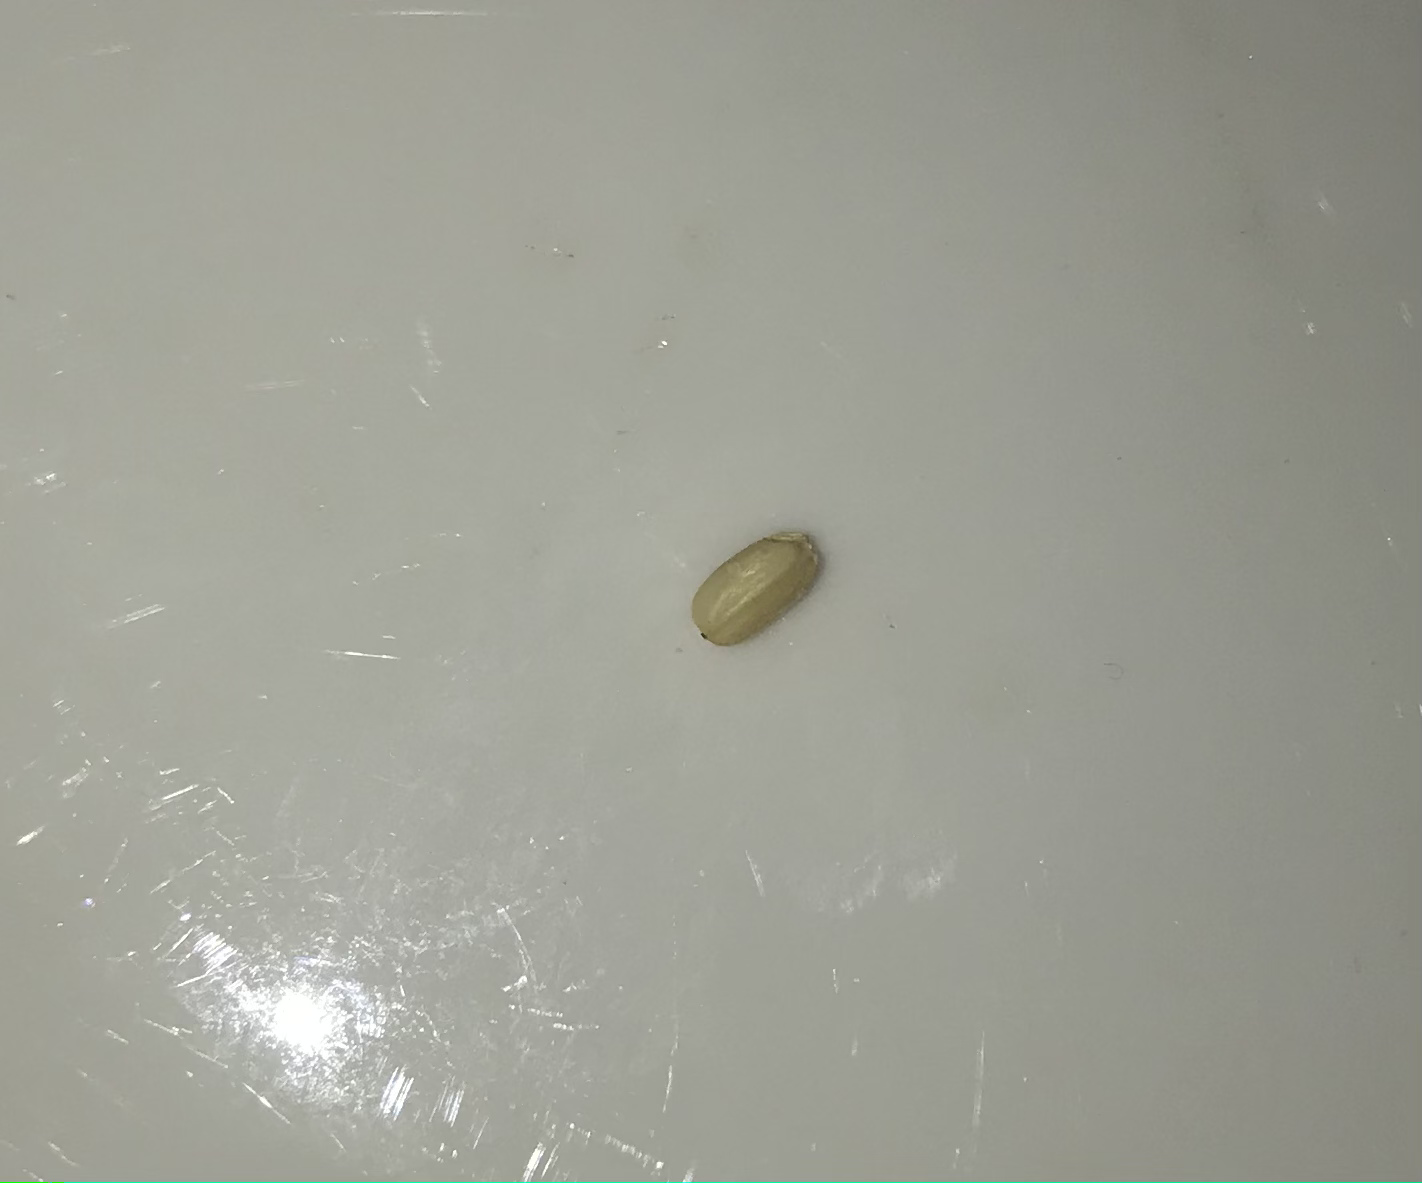Gao Lut Bac: (686, 529, 834, 651)
